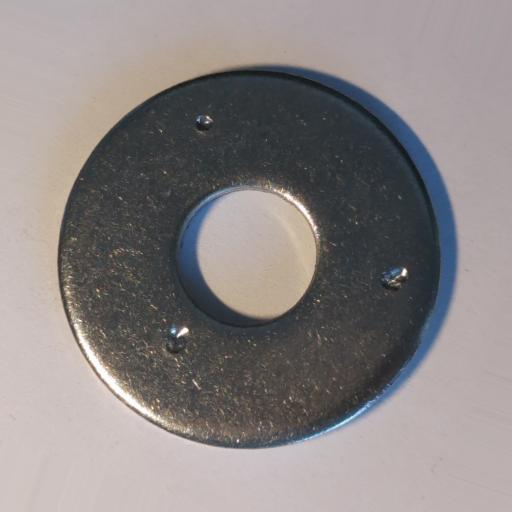circular_cavity: (379, 266, 408, 290), (166, 328, 189, 353), (195, 114, 214, 130)
